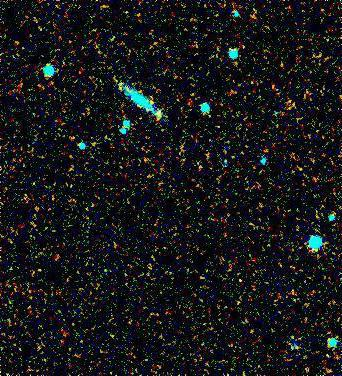star: (146, 101, 176, 131)
